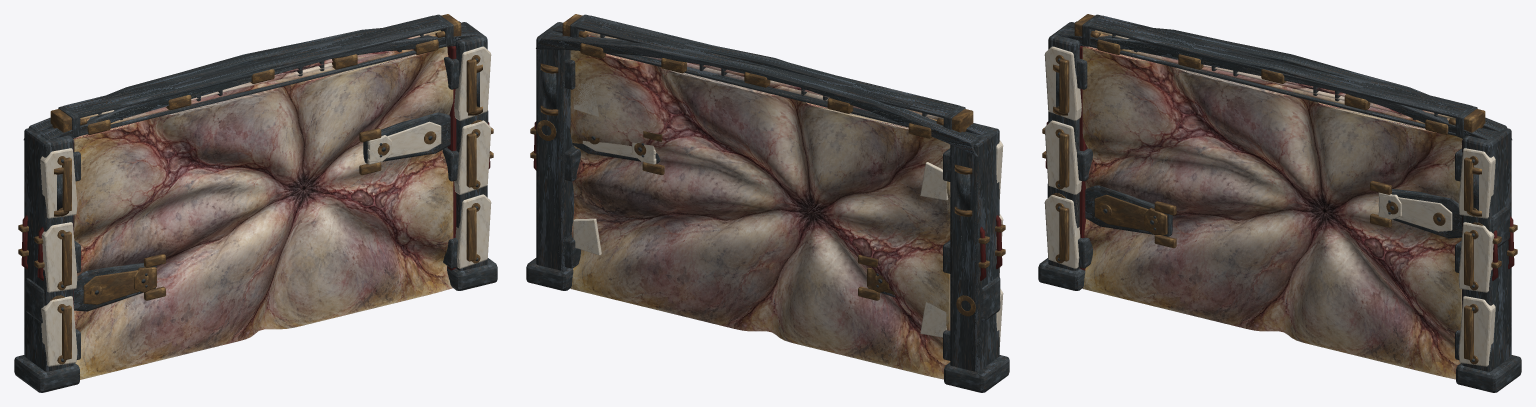
File: intake_threshold.glb
3 views of the same model, side by side, from view 1: azimuth 30°, elevation 25°; view 2: azimuth 150°, elevation 25°; view 3: azimuth 330°, elevation 25° (orthographic).
Parts seen in each view (by area): view 1: MovingLeaf_Visual, StationaryFrame_Visual, IvoryLatch_Visual, BloodLatch_Visual, ReleasedClosure_Visual; view 2: MovingLeaf_Visual, StationaryFrame_Visual, IvoryLatch_Visual, ReleasedClosure_Visual, BloodLatch_Visual; view 3: MovingLeaf_Visual, StationaryFrame_Visual, BloodLatch_Visual, IvoryLatch_Visual, ReleasedClosure_Visual.
Part boxes in pixels (x1,y1,x2,y2): MovingLeaf_Visual: (73, 46, 453, 379); StationaryFrame_Visual: (14, 14, 497, 392); IvoryLatch_Visual: (363, 112, 450, 164); BloodLatch_Visual: (74, 262, 156, 311); ReleasedClosure_Visual: (80, 30, 441, 124); MovingLeaf_Visual: (570, 50, 950, 379); StationaryFrame_Visual: (526, 14, 1009, 392); IvoryLatch_Visual: (570, 125, 660, 164); ReleasedClosure_Visual: (584, 30, 943, 120); BloodLatch_Visual: (867, 267, 895, 297); MovingLeaf_Visual: (1082, 46, 1462, 379); StationaryFrame_Visual: (1038, 14, 1521, 392); BloodLatch_Visual: (1085, 185, 1172, 236); IvoryLatch_Visual: (1378, 189, 1461, 238); ReleasedClosure_Visual: (1094, 30, 1455, 123).
Size of the model in its own units: 9.94 by 5.51 by 1.09.
5 materials, 5 textured.
